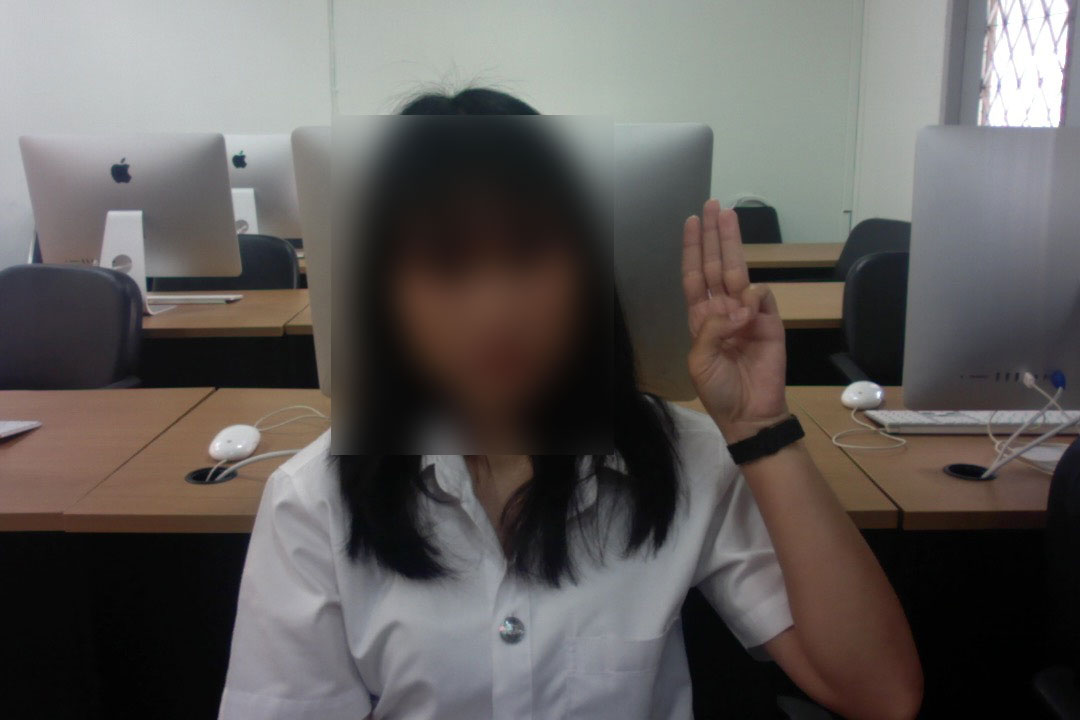wor: (670, 196, 800, 434)
